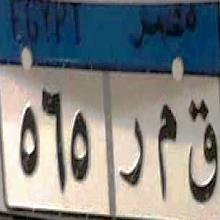5: (68, 104, 98, 187), (15, 92, 39, 186)
6: (40, 89, 66, 192)
meem: (154, 96, 180, 202)
qaaf: (184, 96, 219, 209)
raa: (119, 113, 150, 195)
